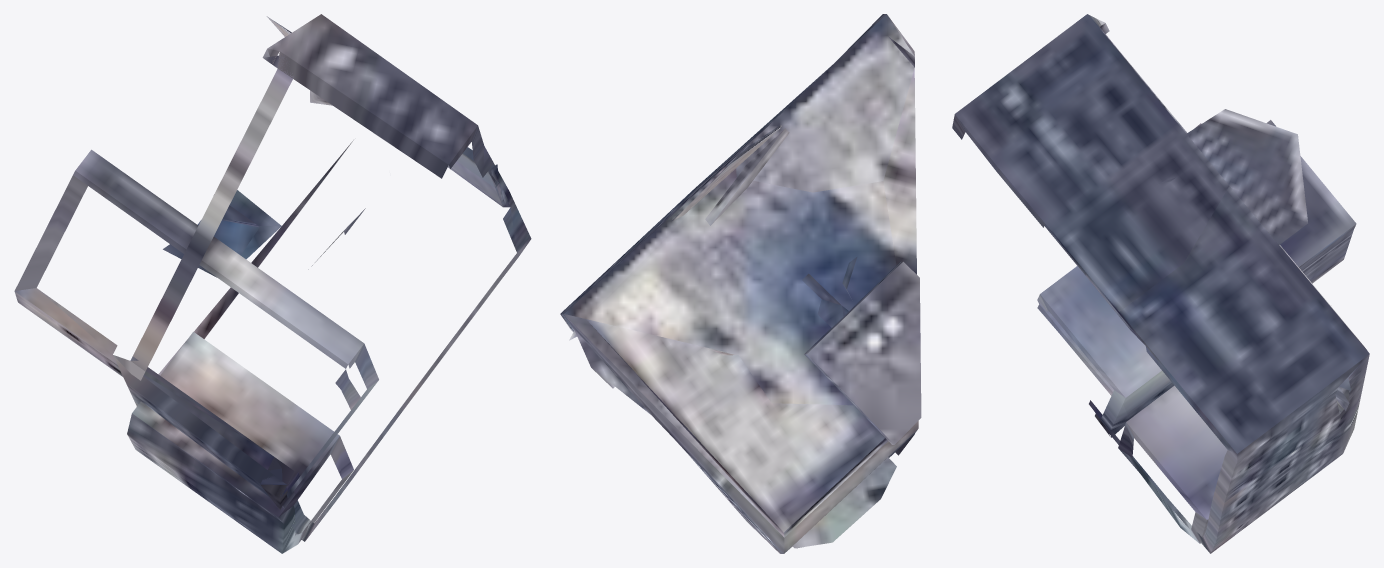
3 renders of one model, left to right at view 1: azimuth 30°, elevation 25°; view 2: azimuth 150°, elevation 25°; view 3: azimuth 270°, elevation 25°, orthographic. The views are drawn at different scales.
Bounding box in the file's own units: 26.42 × 31.86 × 23.33.
1 material, 1 textured.
